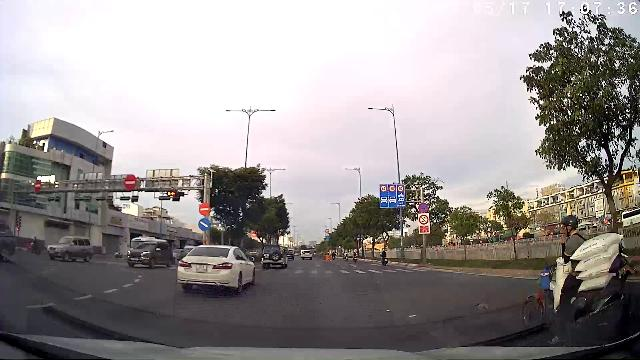127-toc-do-toi-da-50: (398, 186, 404, 192)
127-toc-do-toi-da-60: (389, 186, 395, 192), (381, 186, 387, 192)
